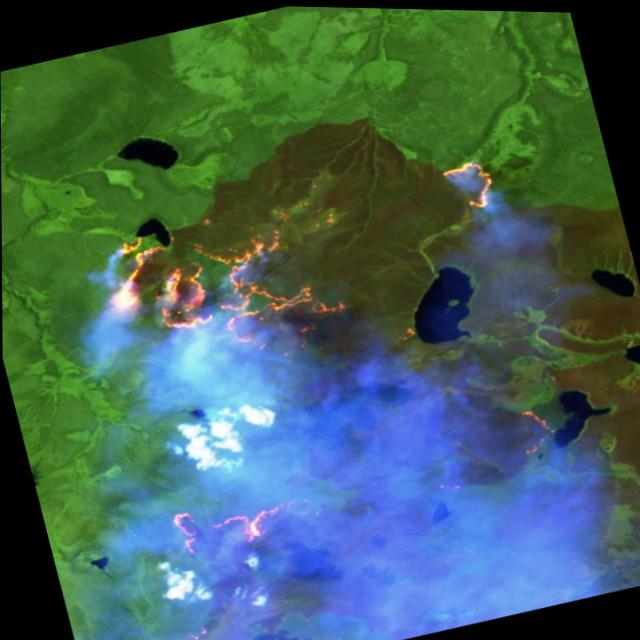fire: (69, 134, 578, 577)
